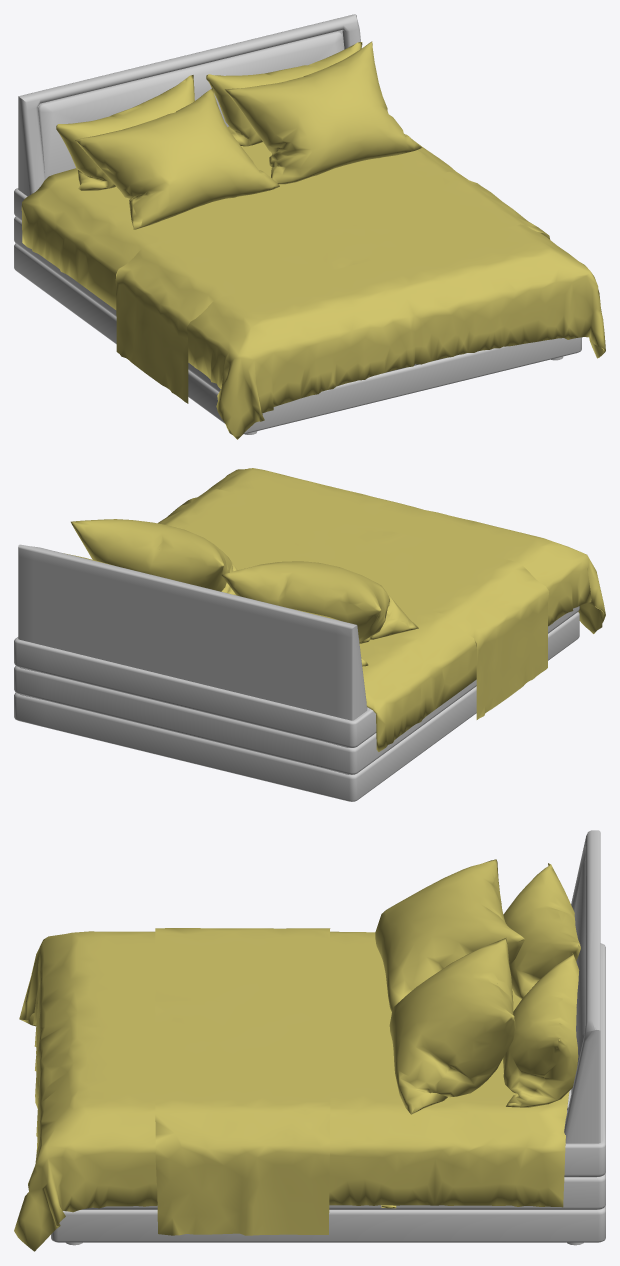
File: Bed.fbx
3 renders of one model, top to bottom at view 1: azimuth 30°, elevation 25°; view 2: azimuth 150°, elevation 25°; view 3: azimuth 270°, elevation 25°, orthographic. The views are drawn at different scales.
Visible parts, largest first — view 1: SM_Bed_1; view 2: SM_Bed_1; view 3: SM_Bed_1.
Part boxes in pixels (bbox=[...]): SM_Bed_1: bbox=[14, 14, 605, 439]; SM_Bed_1: bbox=[14, 468, 605, 801]; SM_Bed_1: bbox=[14, 830, 605, 1251].
Size of the model in its own units: 218 by 98.57 by 236.
